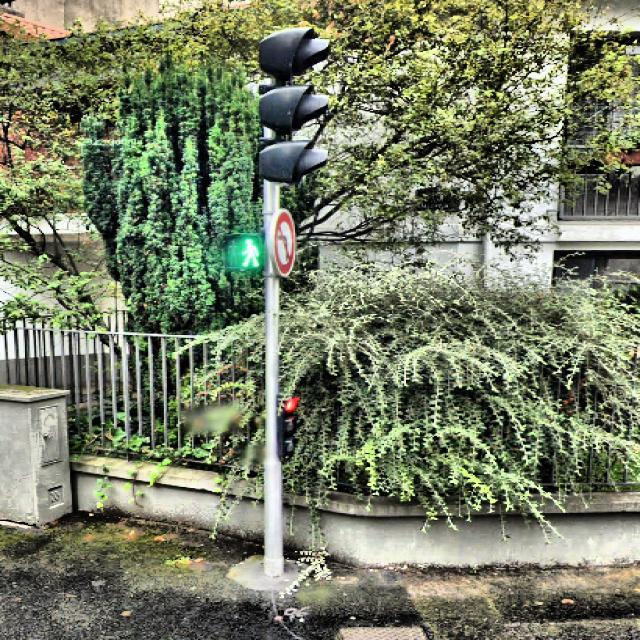green_light: (234, 234, 264, 268)
